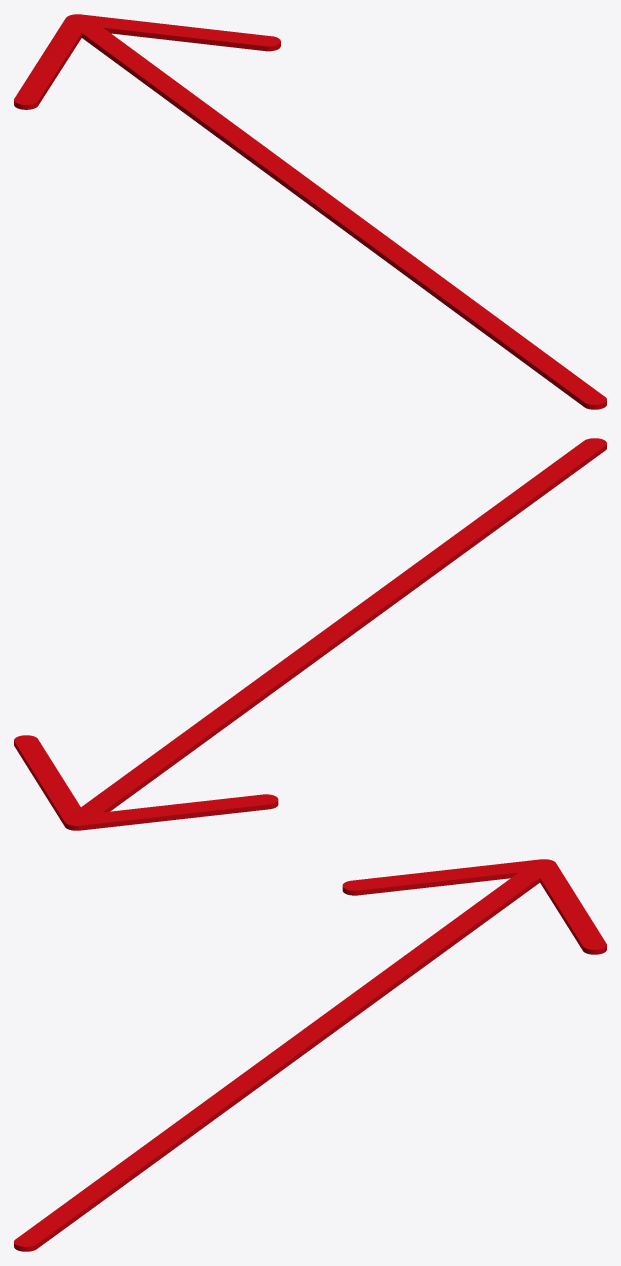
File: finish_arrow.dae
3 renders of one model, top to bottom at view 1: azimuth 30°, elevation 25°; view 2: azimuth 150°, elevation 25°; view 3: azimuth 330°, elevation 25°, orthographic.
Parts seen in each view (by area): view 1: Circle; view 2: Circle; view 3: Circle.
Part boxes in pixels (<box>): Circle: <box>14,14,606,409</box>; Circle: <box>14,438,606,830</box>; Circle: <box>14,859,606,1251</box>.
Size of the model in its own units: 3.08 by 10.76 by 0.0551.
